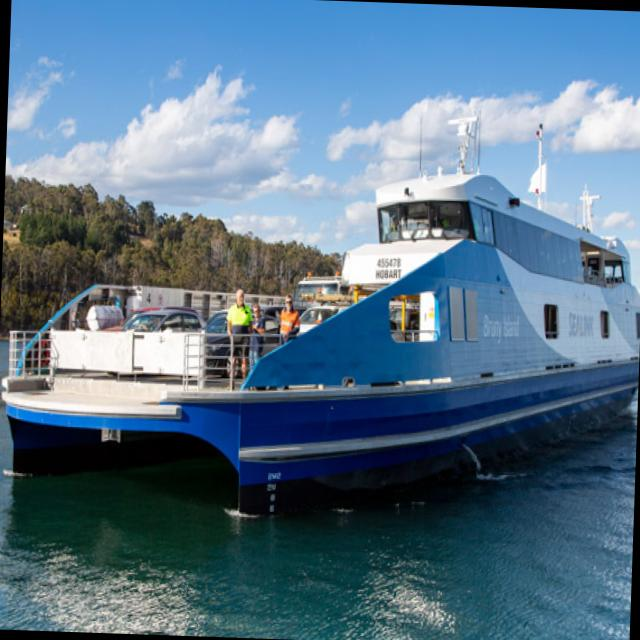boat: (0, 98, 640, 576)
